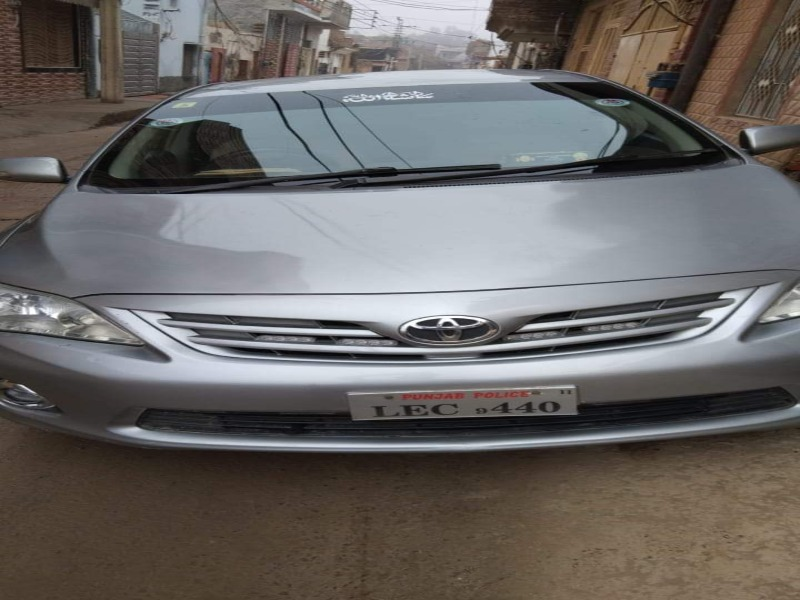License Plate: (341, 382, 581, 428)
